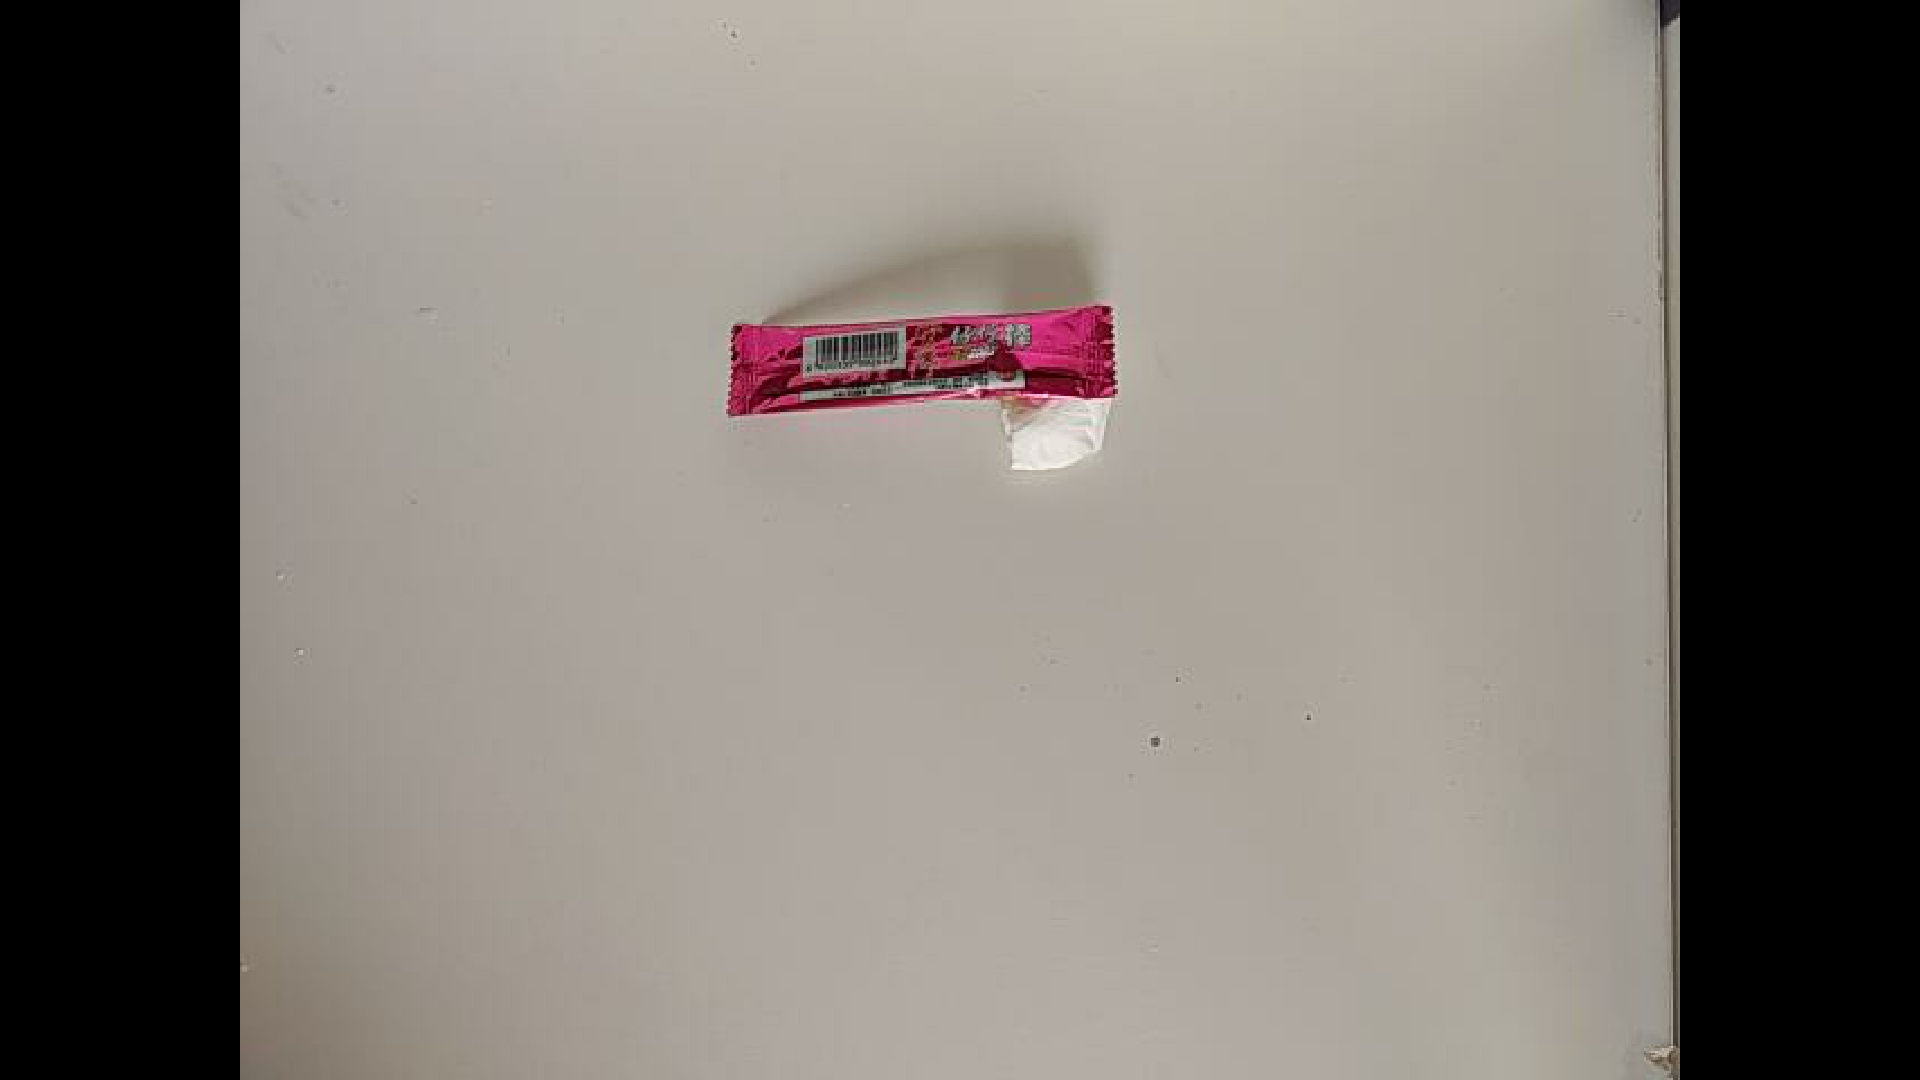sugar: (721, 310, 1122, 418)
